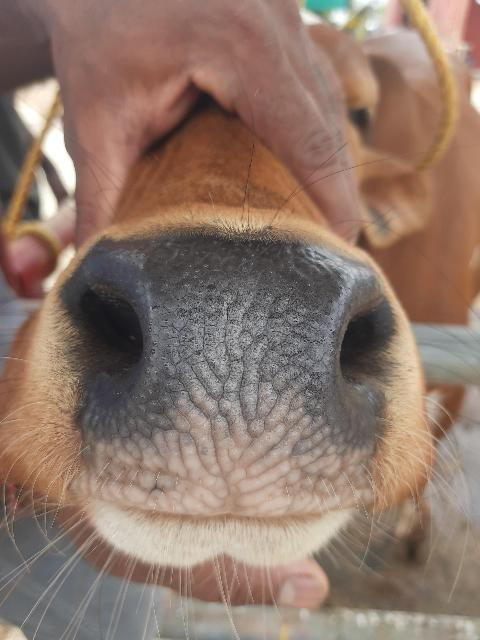Muzzle: (123, 250, 335, 518)
